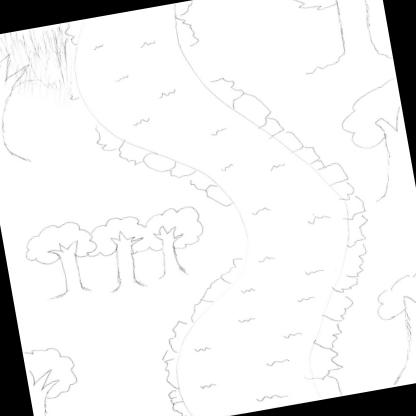branch_sharp: (149, 221, 185, 248), (102, 226, 144, 249), (42, 236, 83, 258)
crown_cloud: (16, 216, 100, 272), (82, 210, 153, 262), (142, 200, 209, 254)
trunk_straight: (108, 250, 144, 283), (54, 257, 88, 290), (159, 247, 187, 272)
